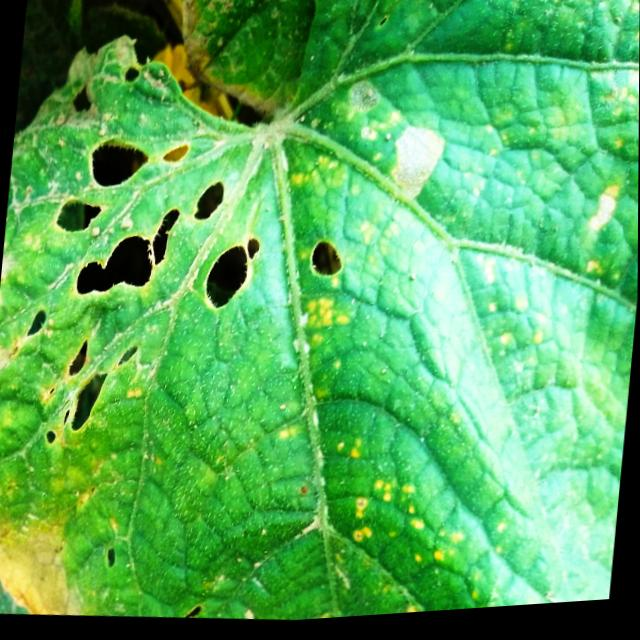Anthracnose: (6, 116, 277, 471), (303, 229, 352, 291), (61, 72, 101, 125), (117, 61, 144, 86)
